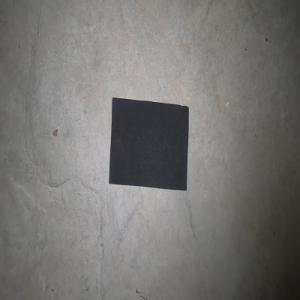PaintChip: (108, 97, 188, 190)
